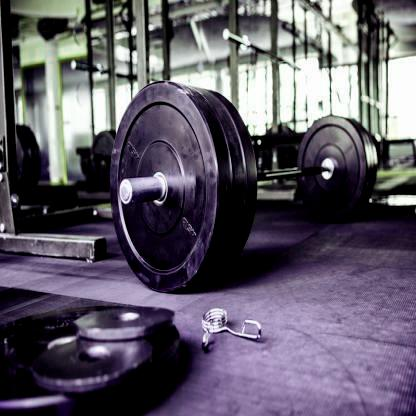Barbell: (118, 173, 138, 211)
